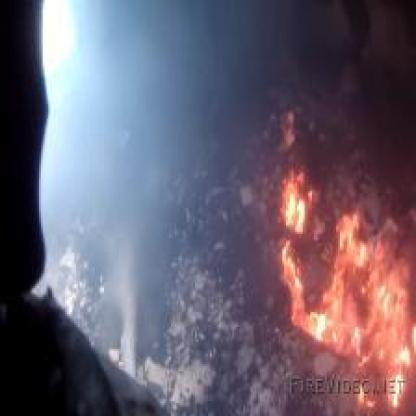fire: (277, 162, 410, 396)
